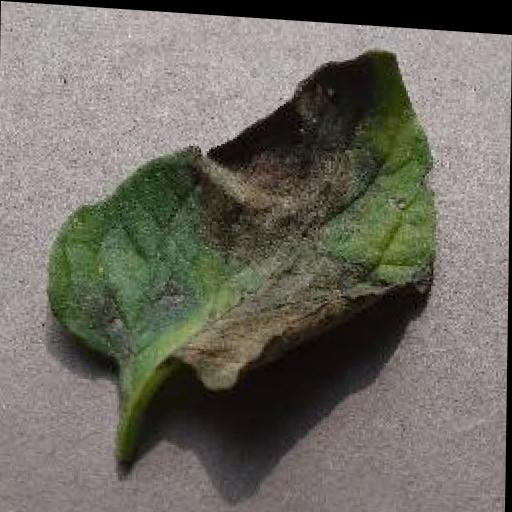Late Blight: (48, 23, 440, 403)
